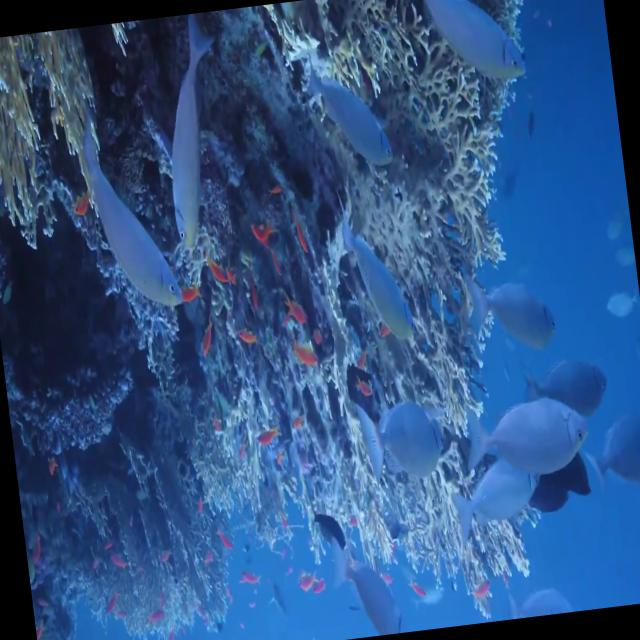fish: (65, 108, 186, 314), (154, 12, 236, 289), (458, 386, 602, 497), (388, 0, 528, 98), (292, 45, 393, 176), (334, 202, 415, 344), (456, 257, 566, 352), (448, 459, 544, 544), (328, 531, 402, 640), (354, 401, 449, 479), (587, 407, 640, 493)
